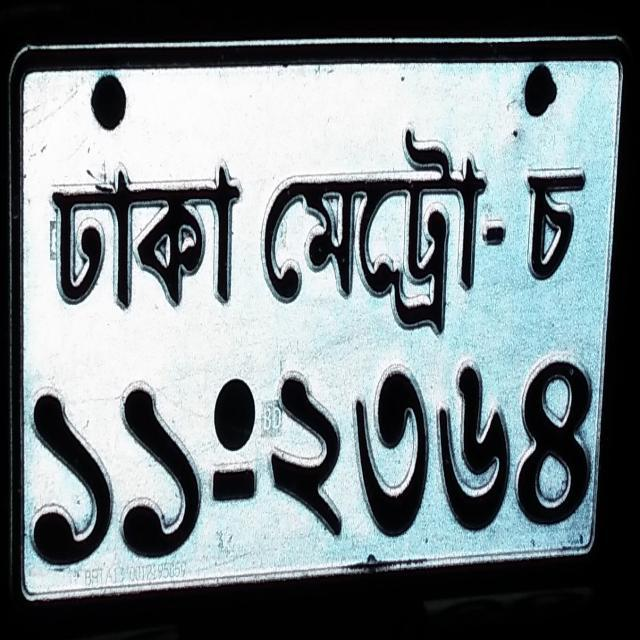numberplate: (4, 33, 628, 605)
